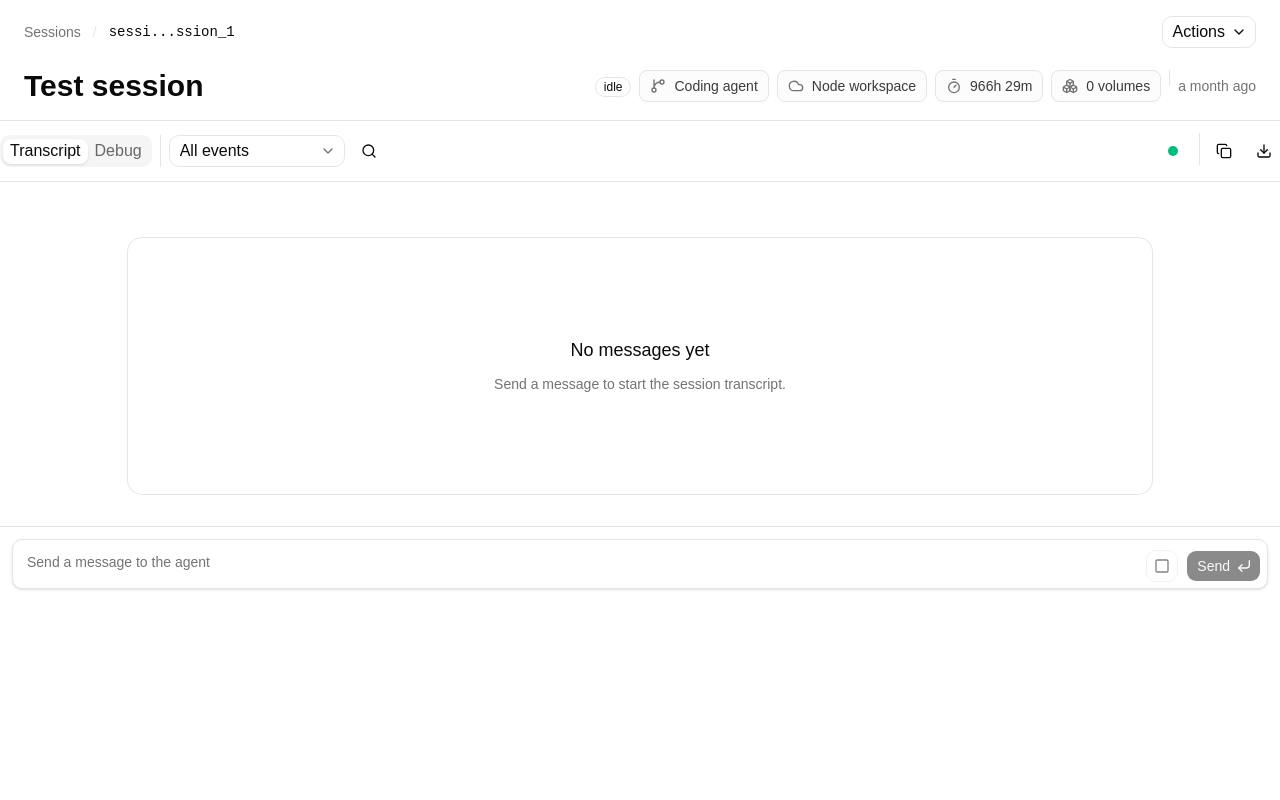
SessionDetailView › renders environment sheet details
Click the button with aria-label "Open environment details" at coordinates (852, 86), box [777,70,927,102]
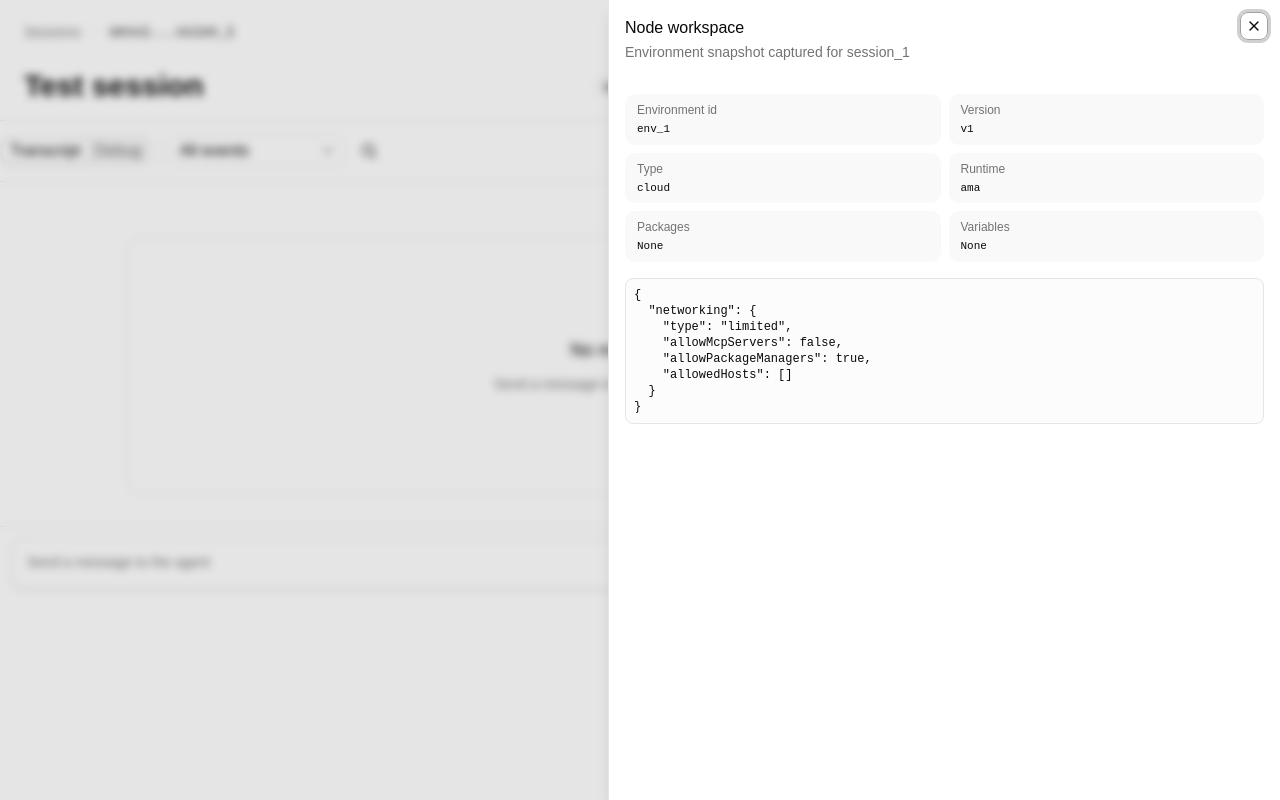
Check: the text "Environment snapshot captured for session_1" is shown, box [625,44,910,60]
